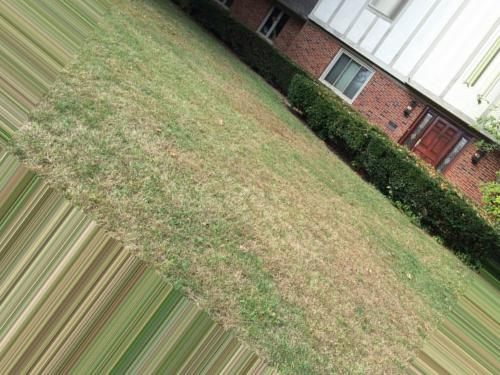patch: (296, 209, 374, 311), (140, 124, 209, 189), (227, 165, 287, 233), (376, 272, 426, 332), (330, 317, 382, 361), (240, 99, 284, 129)
